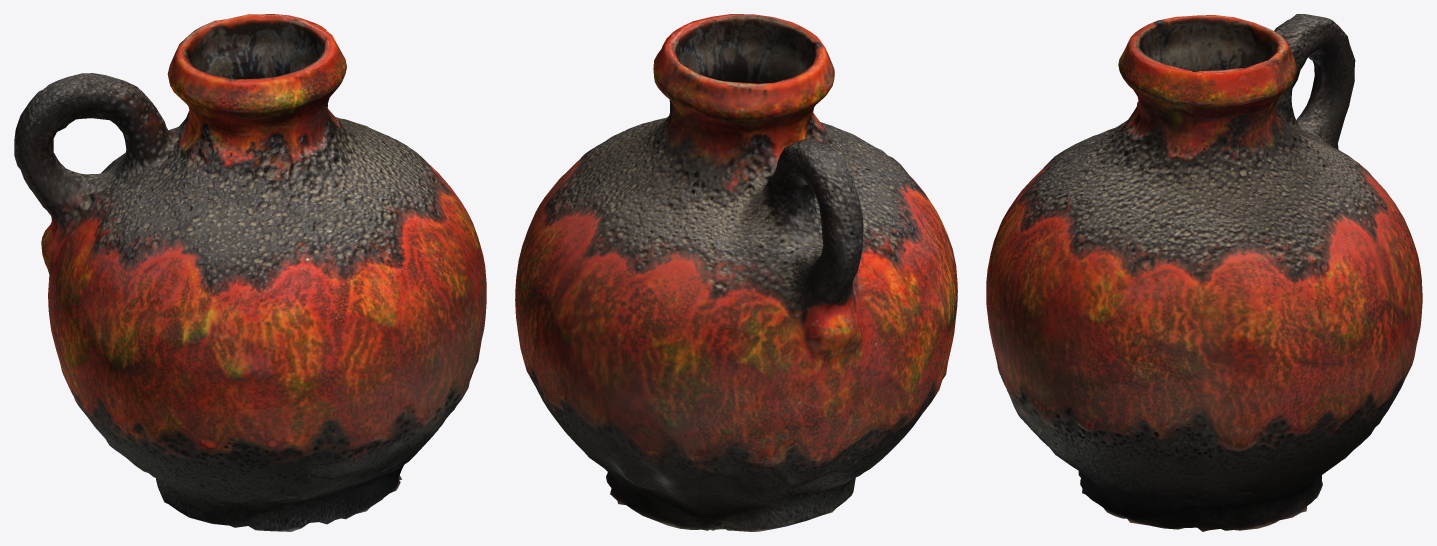
The model's file is LavaVase.glb.
3 views of the same model, side by side, from view 1: azimuth 30°, elevation 25°; view 2: azimuth 150°, elevation 25°; view 3: azimuth 270°, elevation 25° (orthographic).
Parts seen in each view (by area): view 1: 3DModel_LowPoly; view 2: 3DModel_LowPoly; view 3: 3DModel_LowPoly.
Boxes of the visible parts, bbox=[...] form: 3DModel_LowPoly: bbox=[14, 14, 486, 531]; 3DModel_LowPoly: bbox=[515, 14, 957, 531]; 3DModel_LowPoly: bbox=[986, 14, 1422, 531].
Size of the model in its own units: 6.28 by 6.94 by 6.3.
1 material, 1 textured.
